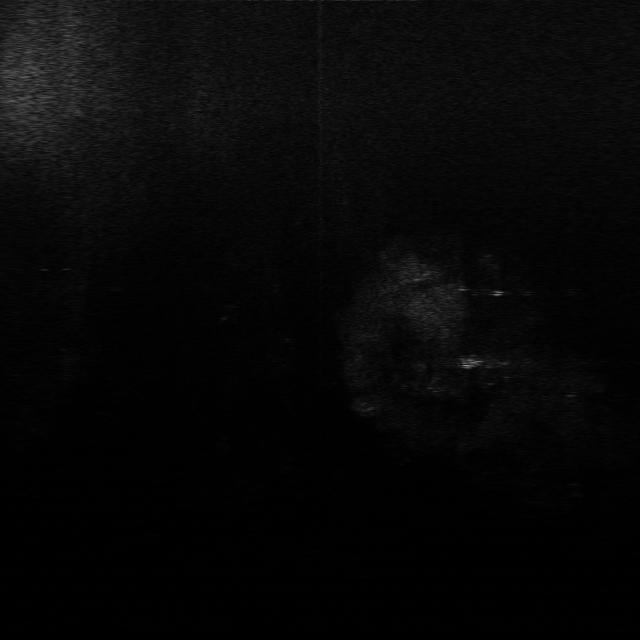rov: (456, 356, 486, 373)
